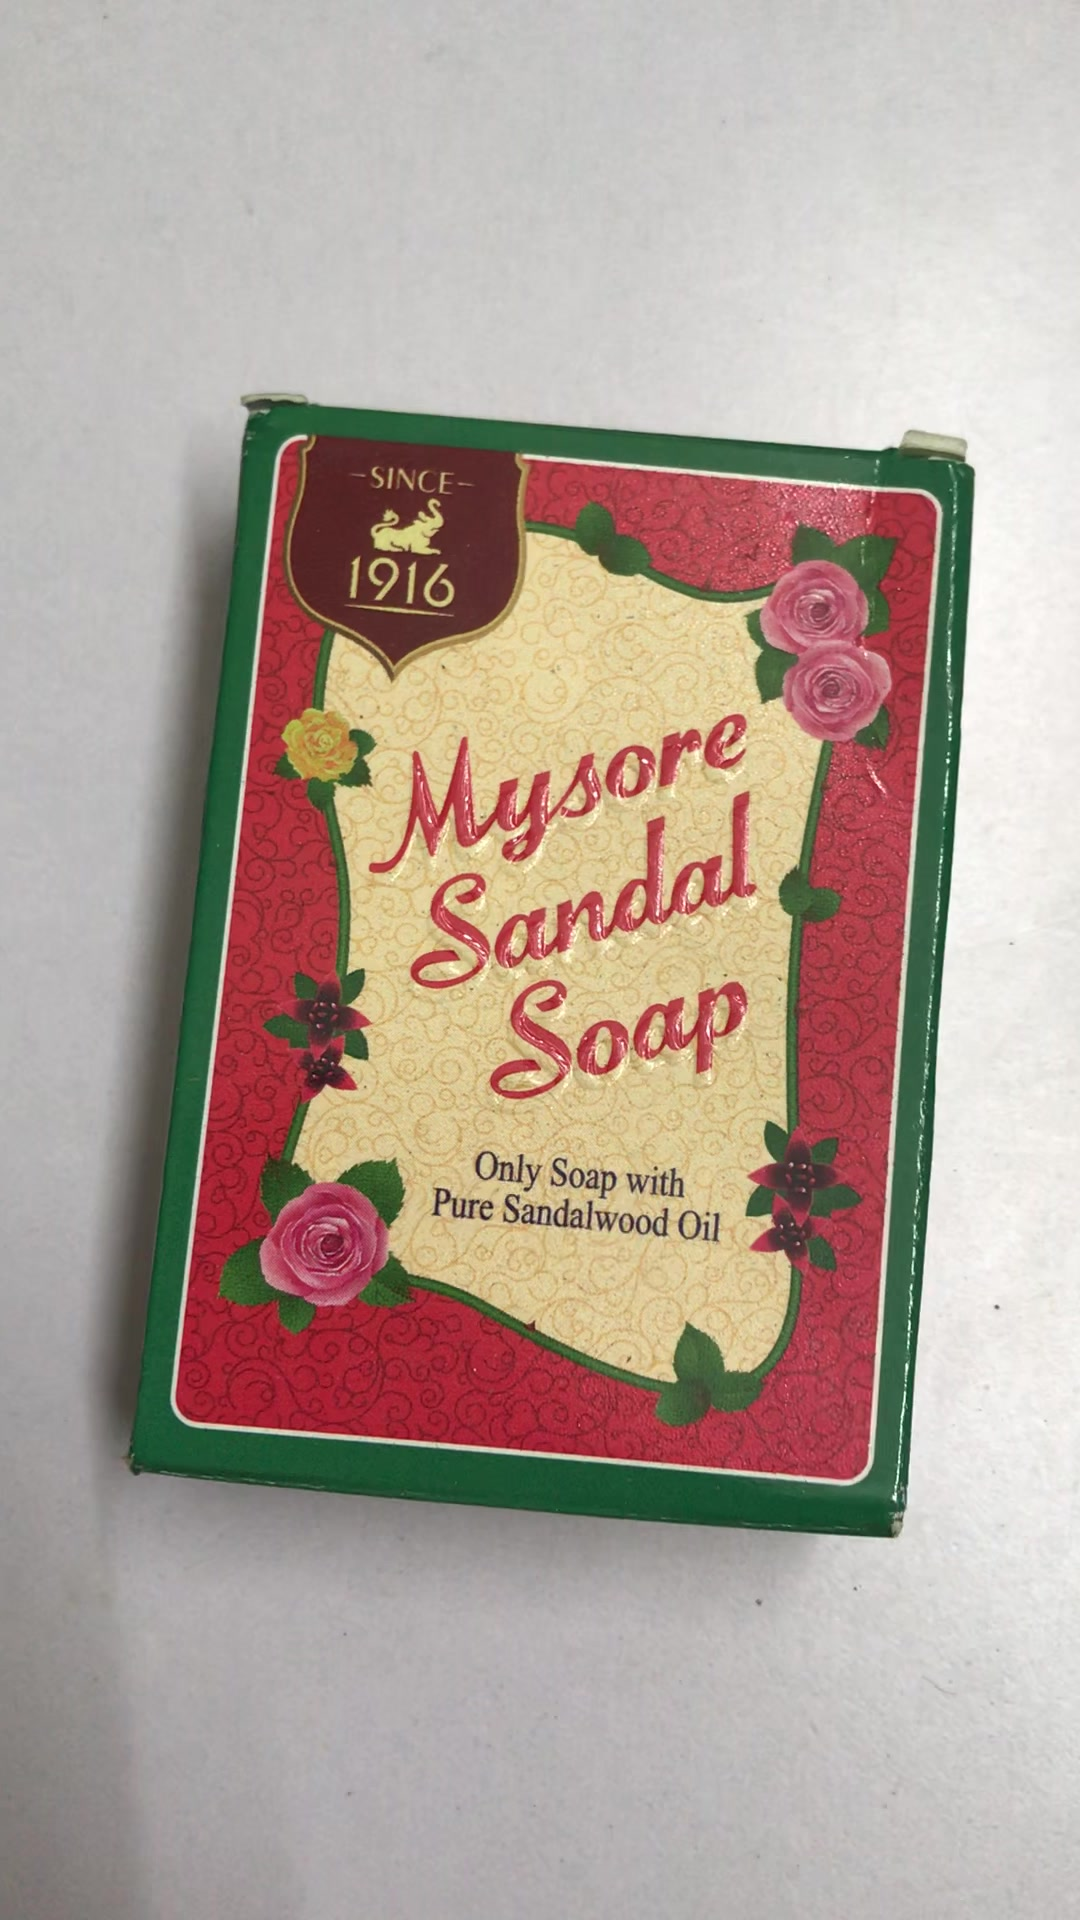mysore sandal soap: (142, 404, 963, 1538)
